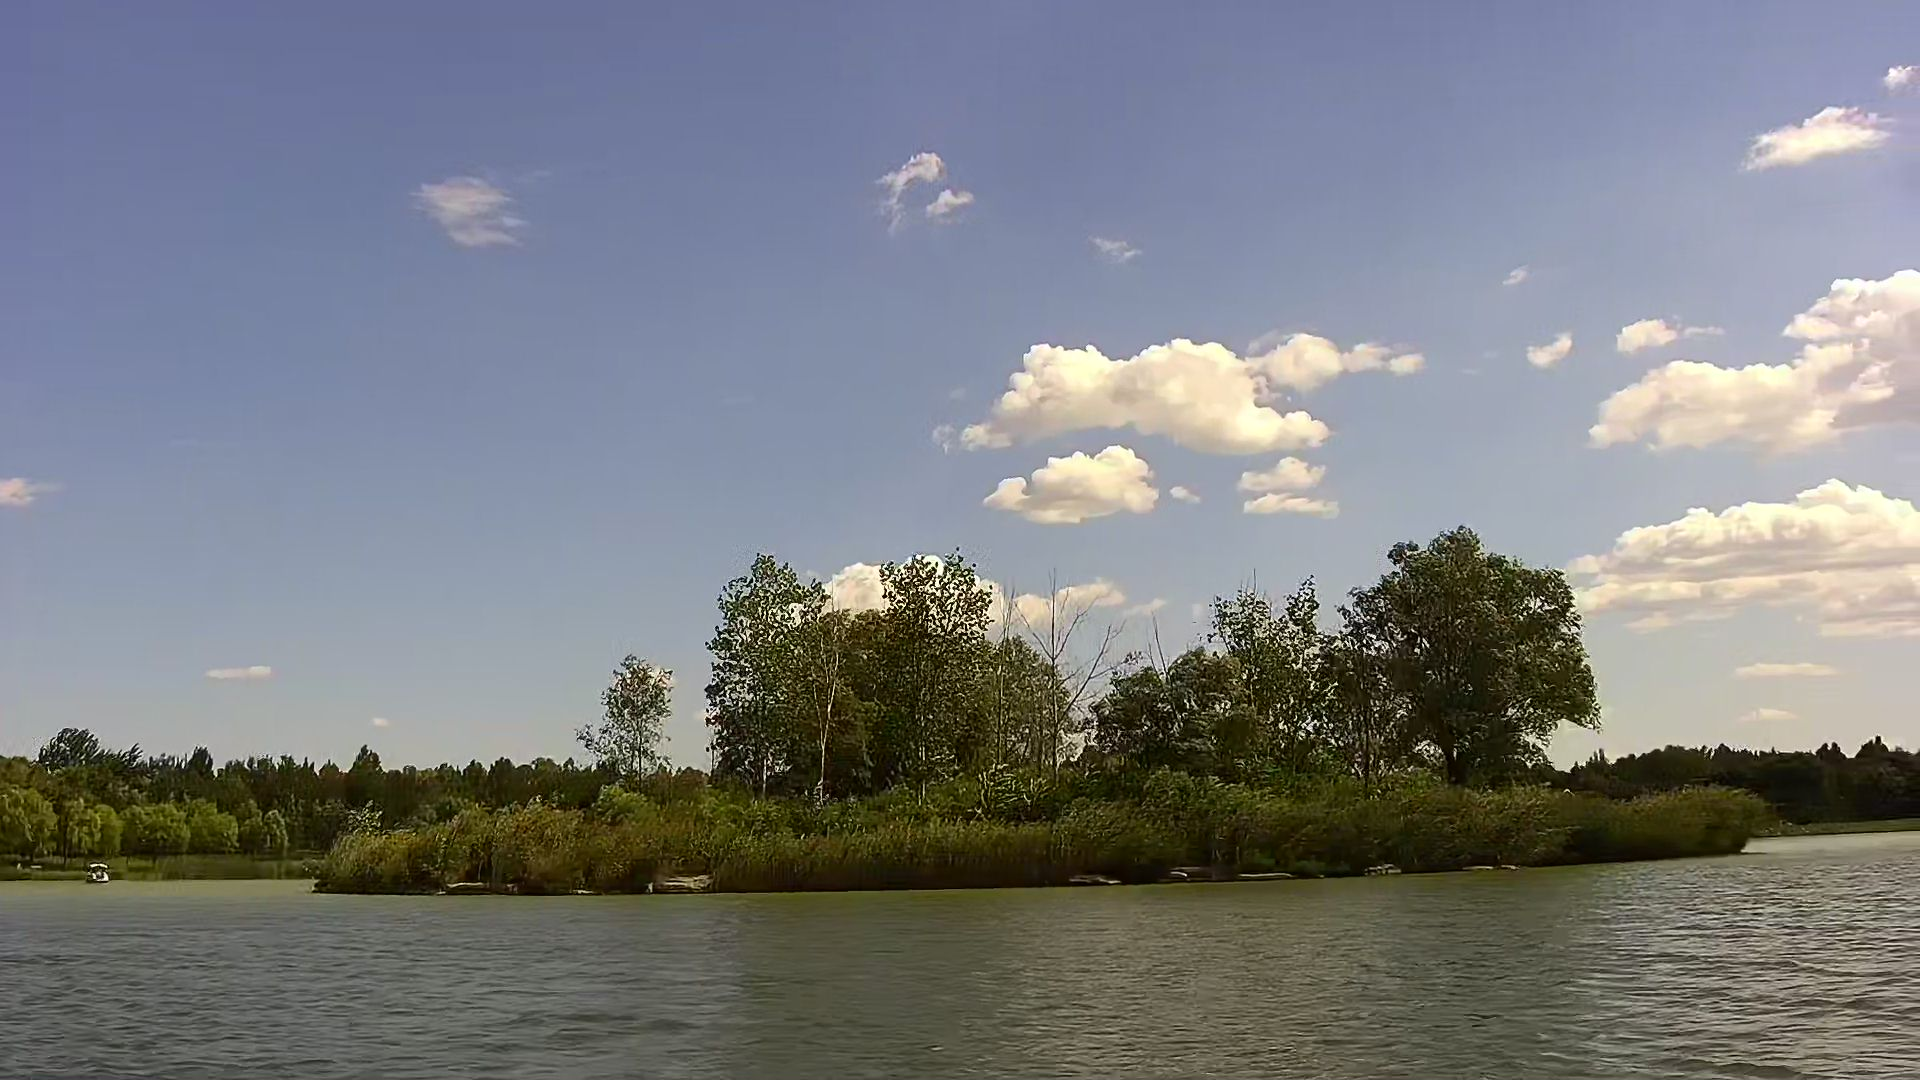boat: (82, 858, 105, 880)
rock: (1461, 860, 1520, 878), (1240, 866, 1294, 884), (649, 872, 699, 887), (1362, 864, 1404, 880), (448, 880, 509, 890), (1068, 872, 1114, 885), (1166, 864, 1195, 880), (571, 885, 593, 897)
